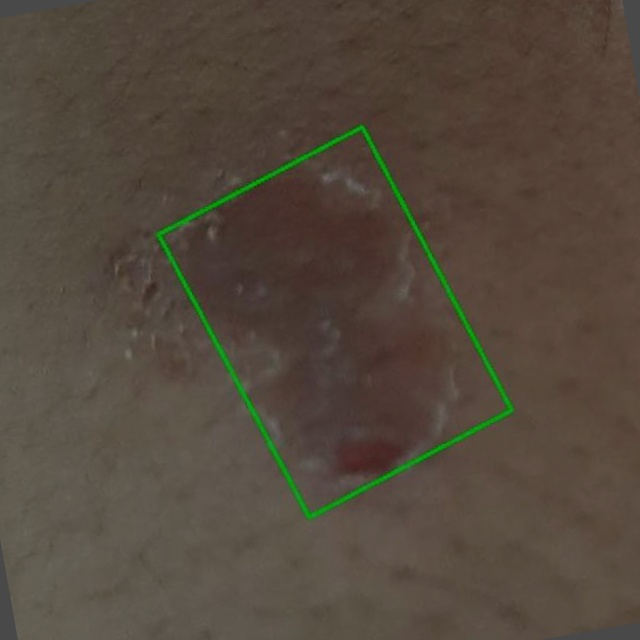Tinea Corporis: (158, 126, 512, 517)
